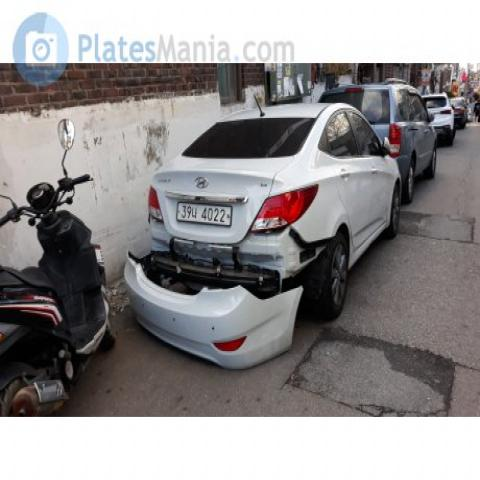LP: (171, 194, 235, 235)
